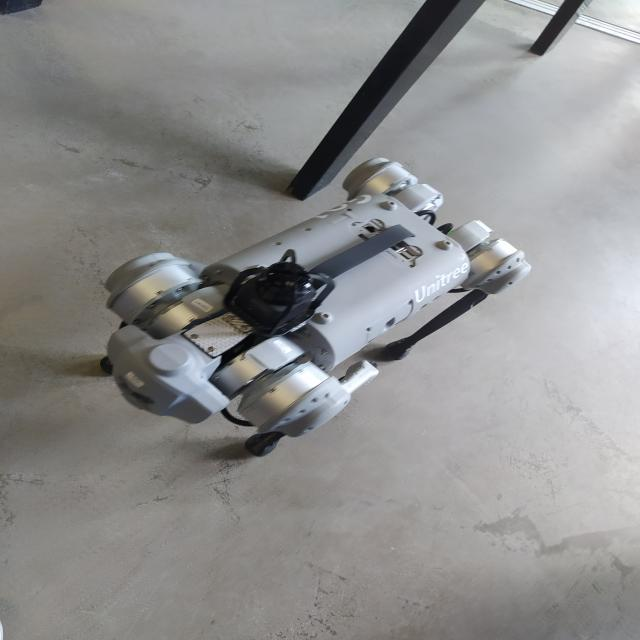unitree-go1-robot: (106, 156, 532, 471)
